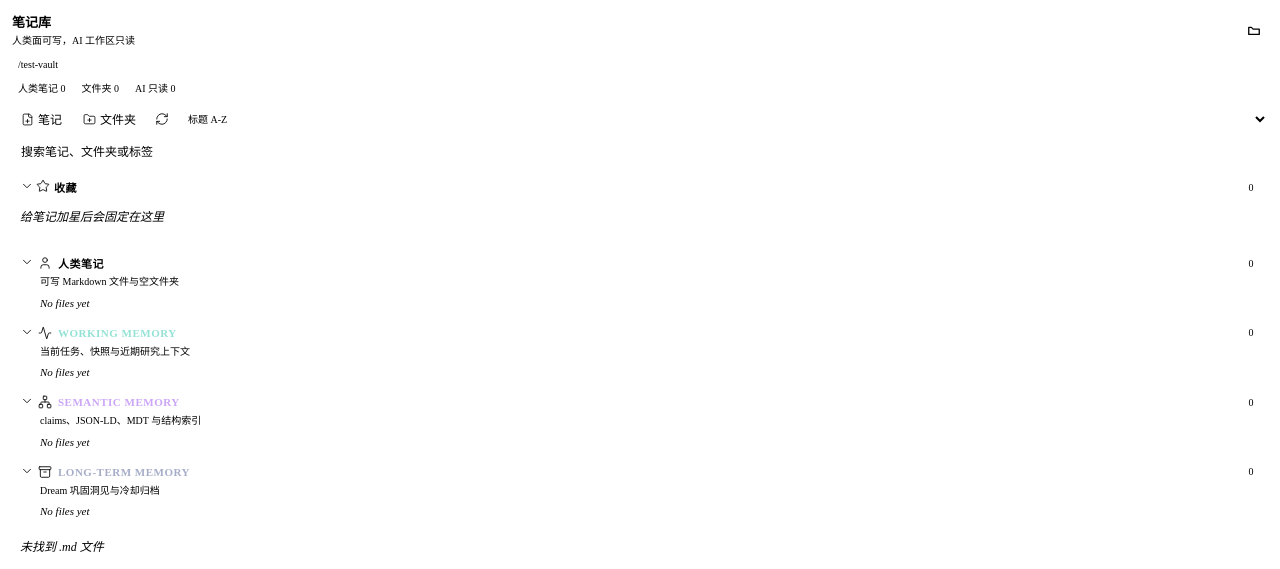
Test case: VaultBrowser › shows a newly created empty human folder before it has notes
The width and height of the screenshot is (1280, 569).
Click the button titled "新建文件夹": (110,119) [75,105,144,133]
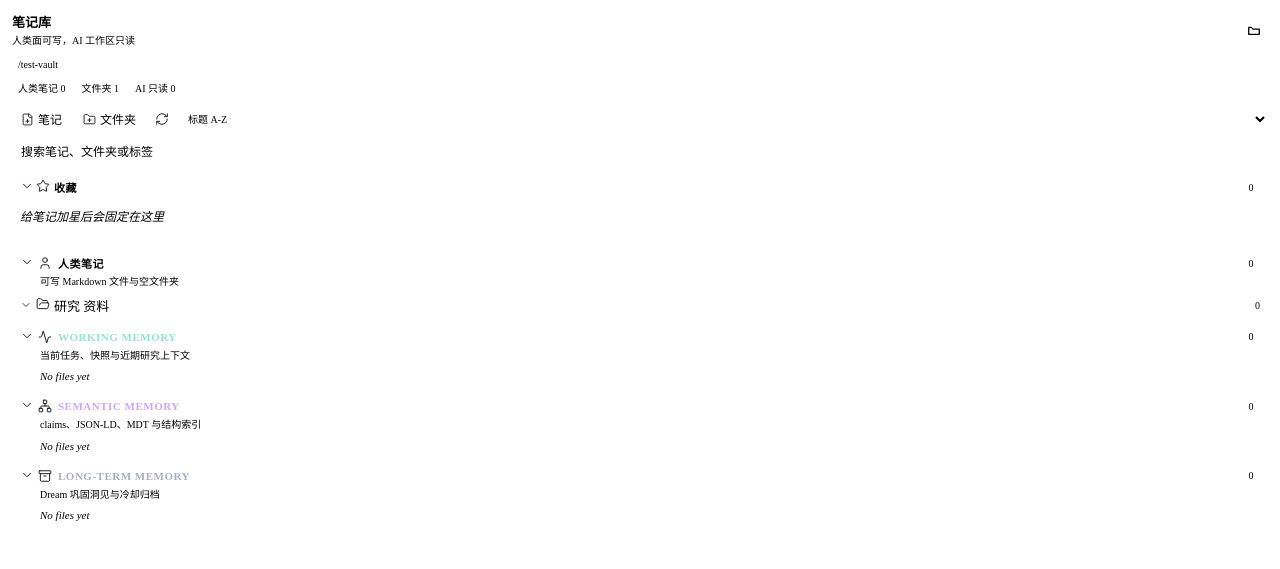
Check: the text "研究 资料" is shown, box [54,299,109,314]
Check: the text ".md 文件" is gone
